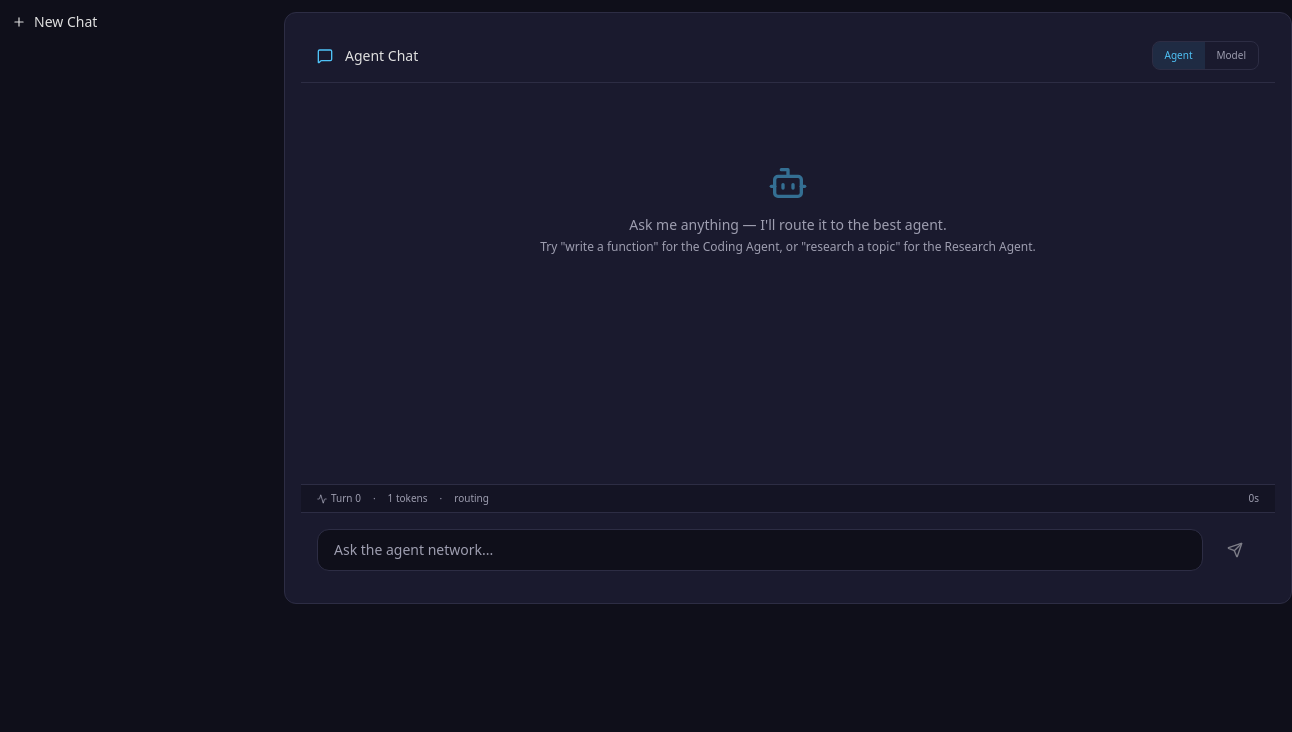
Chat › switches between agent and model modes
What coordinates should you click on to do the following:
click the button "Model"
I would click on:
 (1231, 56)
Its box is [1204,42,1258,69].
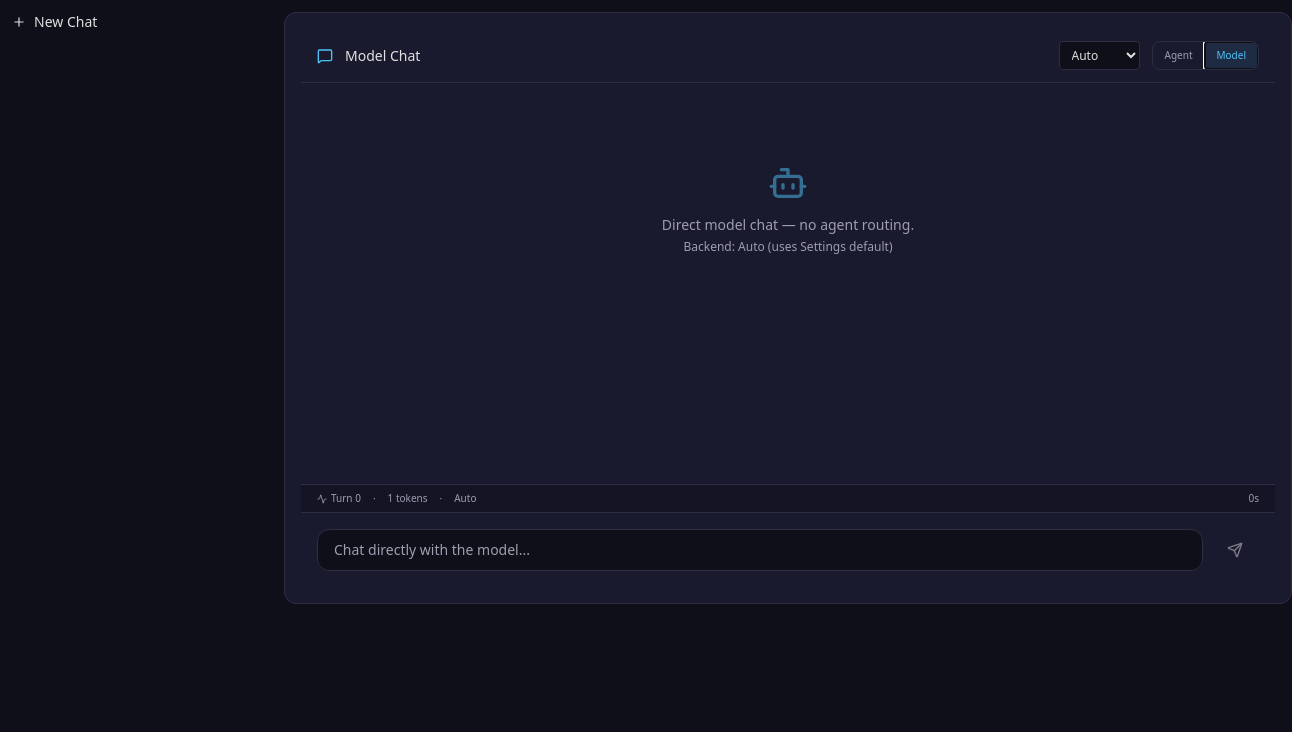
Check: the text "Model Chat" is shown, box [345,46,420,66]
What coordinates should you click on to do the following:
click the button "Agent"
I would click on:
 (1178, 56)
Its box is [1152,42,1204,69].
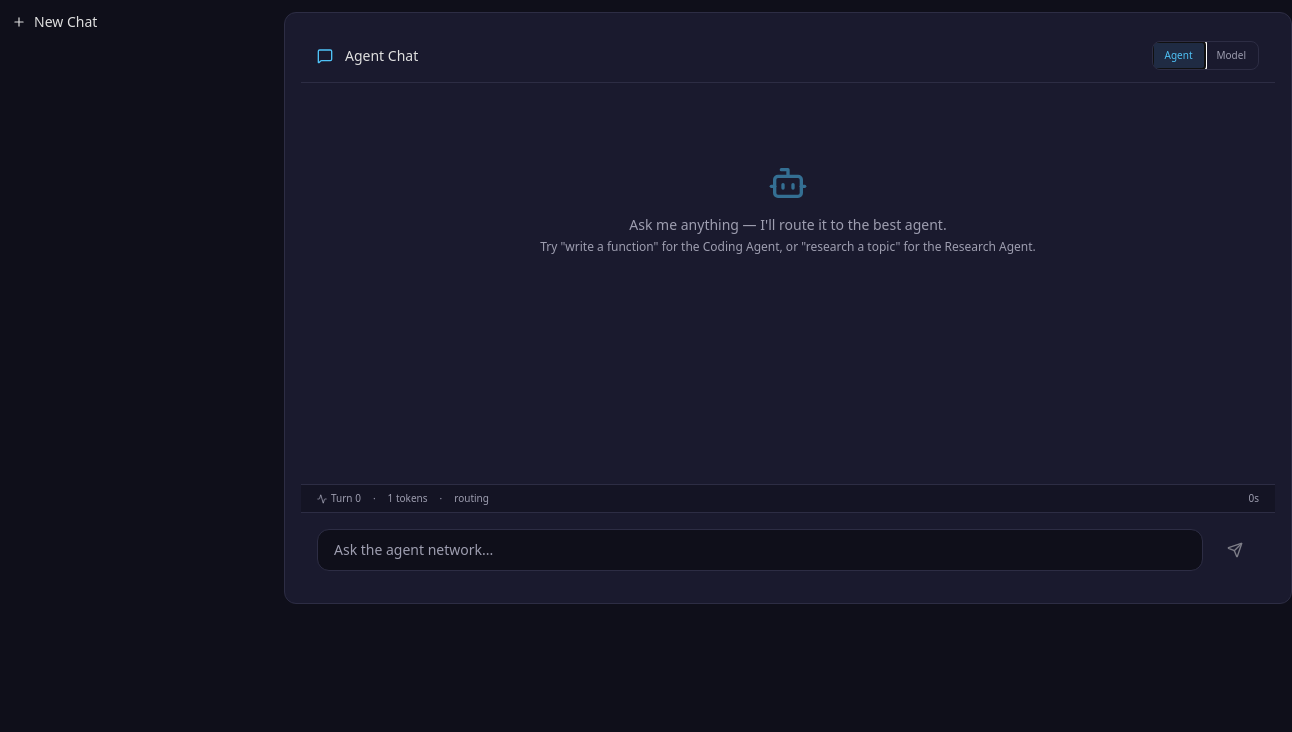
Check: the text "Agent Chat" is shown, box [345,46,418,66]
